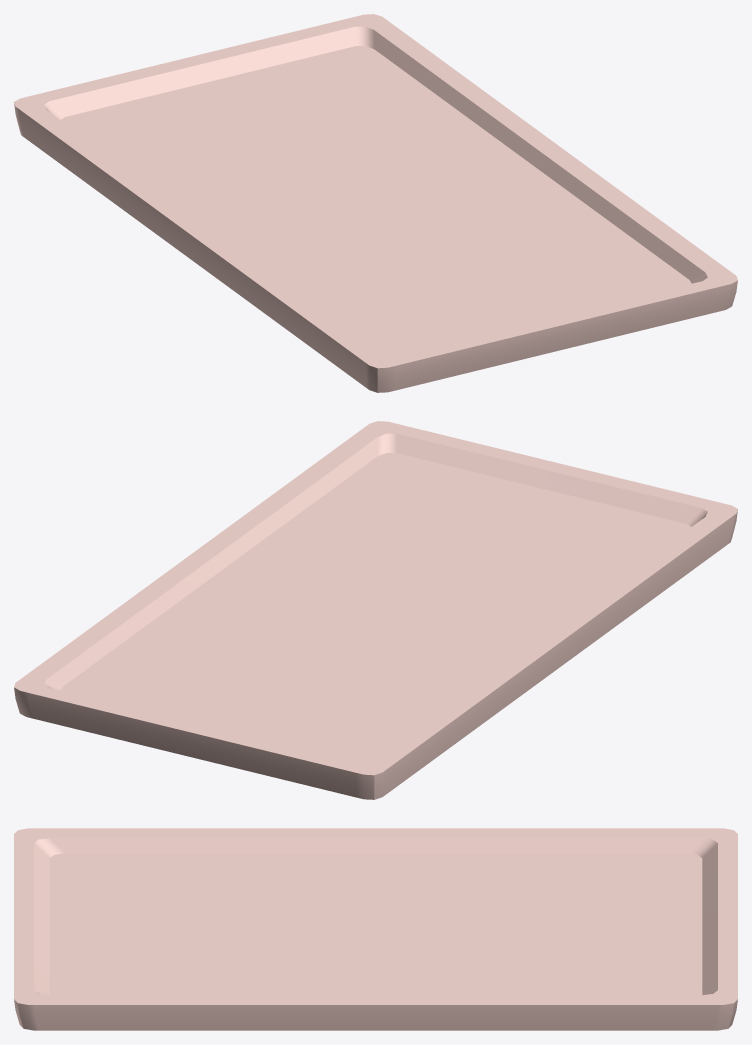
The model's file is tray.fbx.
3 renders of one model, top to bottom at view 1: azimuth 30°, elevation 25°; view 2: azimuth 150°, elevation 25°; view 3: azimuth 270°, elevation 25°, orthographic.
Parts seen in each view (by area): view 1: pCube266; view 2: pCube266; view 3: pCube266.
Part boxes in pixels (left/top/right/bottom): pCube266: left=14, top=14, right=737, bottom=392; pCube266: left=14, top=421, right=737, bottom=799; pCube266: left=14, top=828, right=737, bottom=1030.
Bounding box in the file's own units: 52.23 × 3.74 × 90.63.
